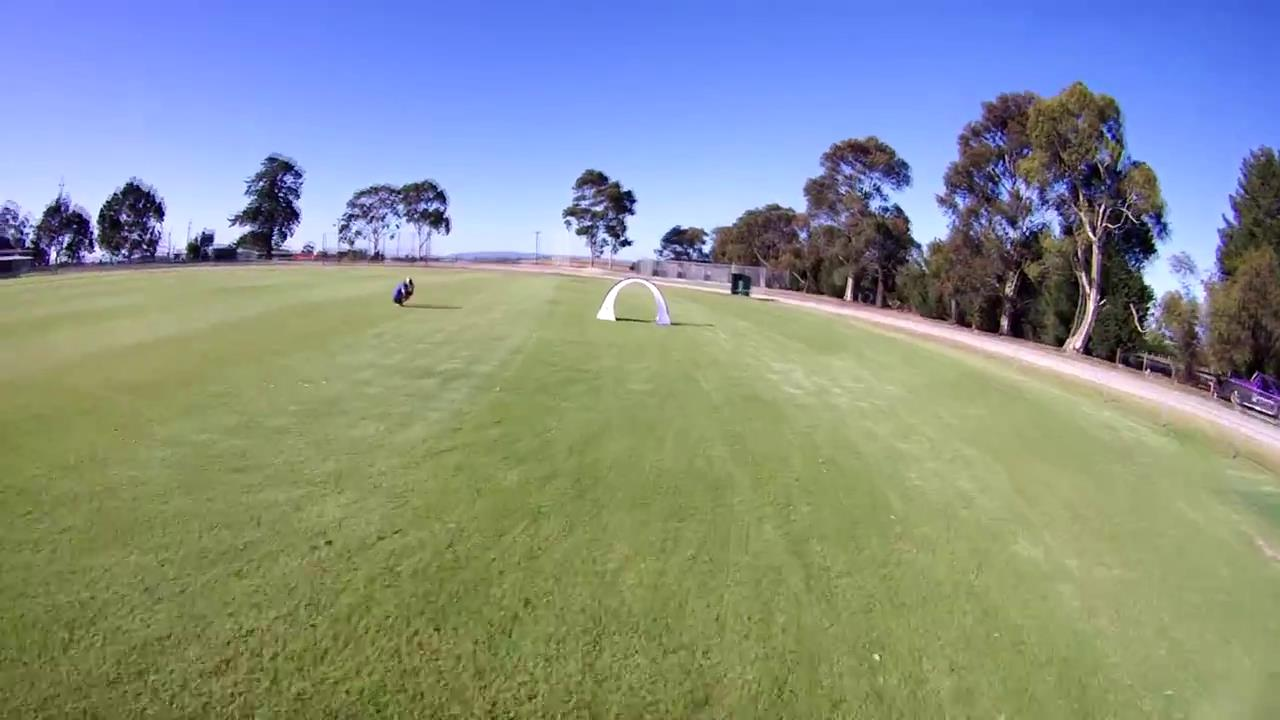gate: (596, 277, 673, 328)
